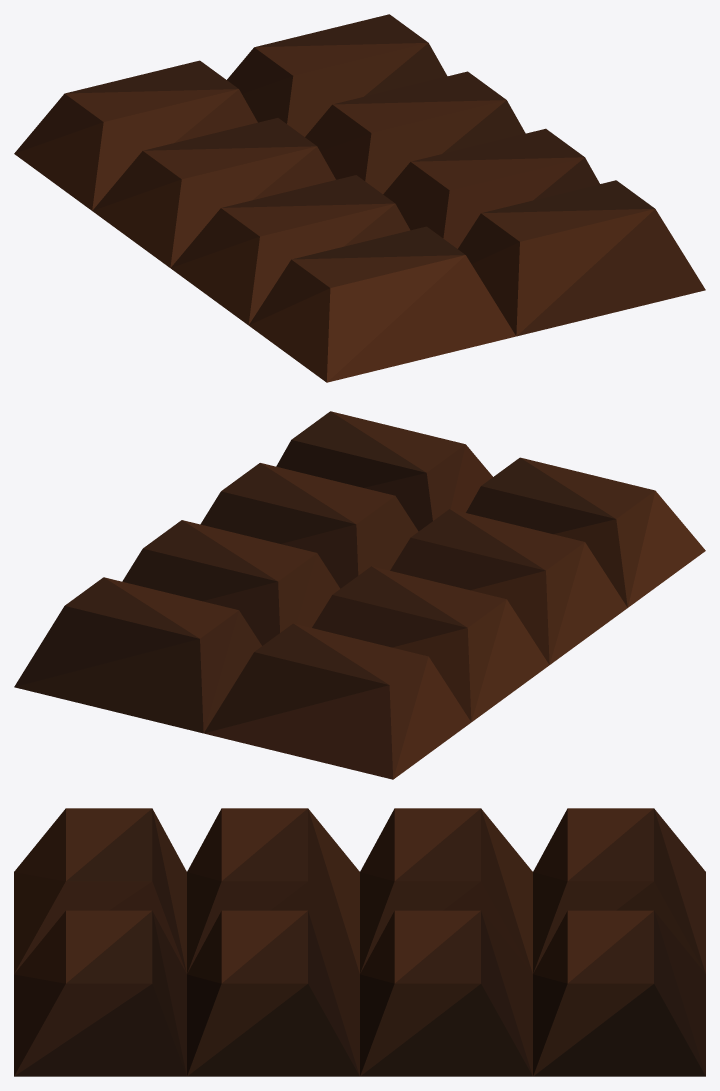
Rendered from chocolate.obj.
3 renders of one model, top to bottom at view 1: azimuth 30°, elevation 25°; view 2: azimuth 150°, elevation 25°; view 3: azimuth 270°, elevation 25°, orthographic. The views are drawn at different scales.
Parts seen in each view (by area): view 1: Item Chocolate bar 2026-10-24_20-41-10; view 2: Item Chocolate bar 2026-10-24_20-41-10; view 3: Item Chocolate bar 2026-10-24_20-41-10.
Boxes of the visible parts, x1=… form: Item Chocolate bar 2026-10-24_20-41-10: x1=14, y1=14, x2=705, y2=382; Item Chocolate bar 2026-10-24_20-41-10: x1=14, y1=411, x2=705, y2=779; Item Chocolate bar 2026-10-24_20-41-10: x1=14, y1=808, x2=705, y2=1076.
Bounding box in the file's own units: 28 × 5 × 40.
